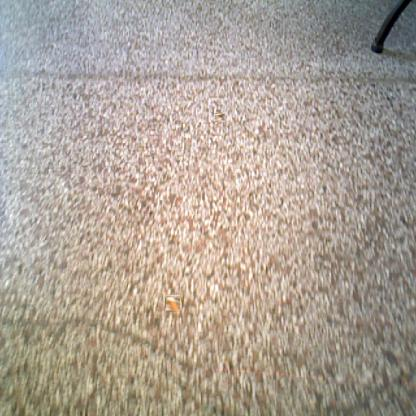dirty: (166, 296, 181, 312), (215, 114, 224, 123)
